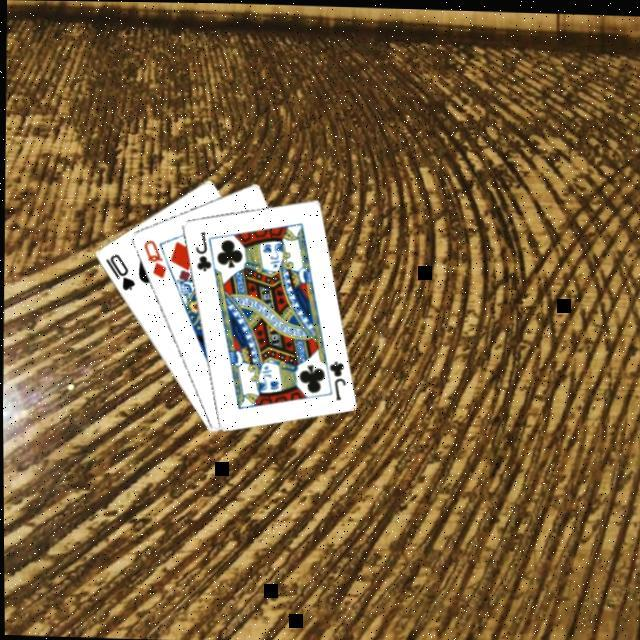10S: (98, 248, 135, 291)
JC: (321, 354, 346, 400), (189, 225, 212, 271)
QD: (135, 233, 166, 278)
